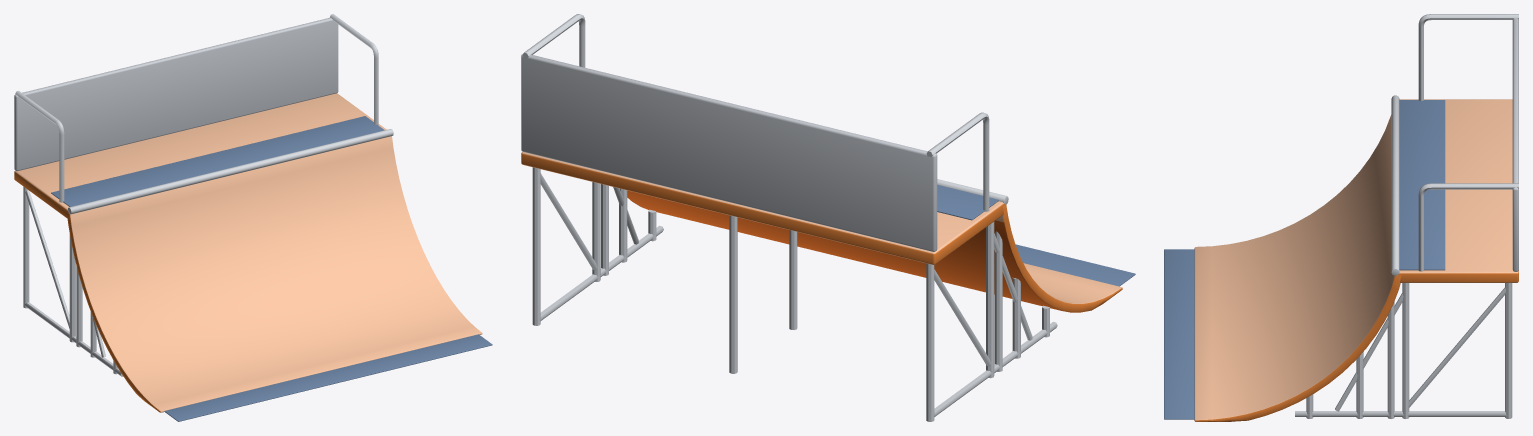
The model's file is skate_quarter_pipe.glb.
3 views of the same model, side by side, from view 1: azimuth 30°, elevation 25°; view 2: azimuth 150°, elevation 25°; view 3: azimuth 270°, elevation 25° (orthographic). The views are drawn at different scales.
Visible parts, largest first — view 1: colisao_rampa, skate_quarter_pipe; view 2: skate_quarter_pipe, colisao_rampa; view 3: skate_quarter_pipe, colisao_rampa.
Boxes of the visible parts, x1,y1,x2,y2 form: colisao_rampa: [67, 136, 482, 412]; skate_quarter_pipe: [14, 14, 492, 421]; skate_quarter_pipe: [521, 14, 1135, 421]; colisao_rampa: [627, 190, 1122, 312]; skate_quarter_pipe: [1164, 14, 1518, 419]; colisao_rampa: [1194, 115, 1401, 421].
Size of the model in its own units: 4 by 2.53 by 3.45.
1 material, 1 textured.
